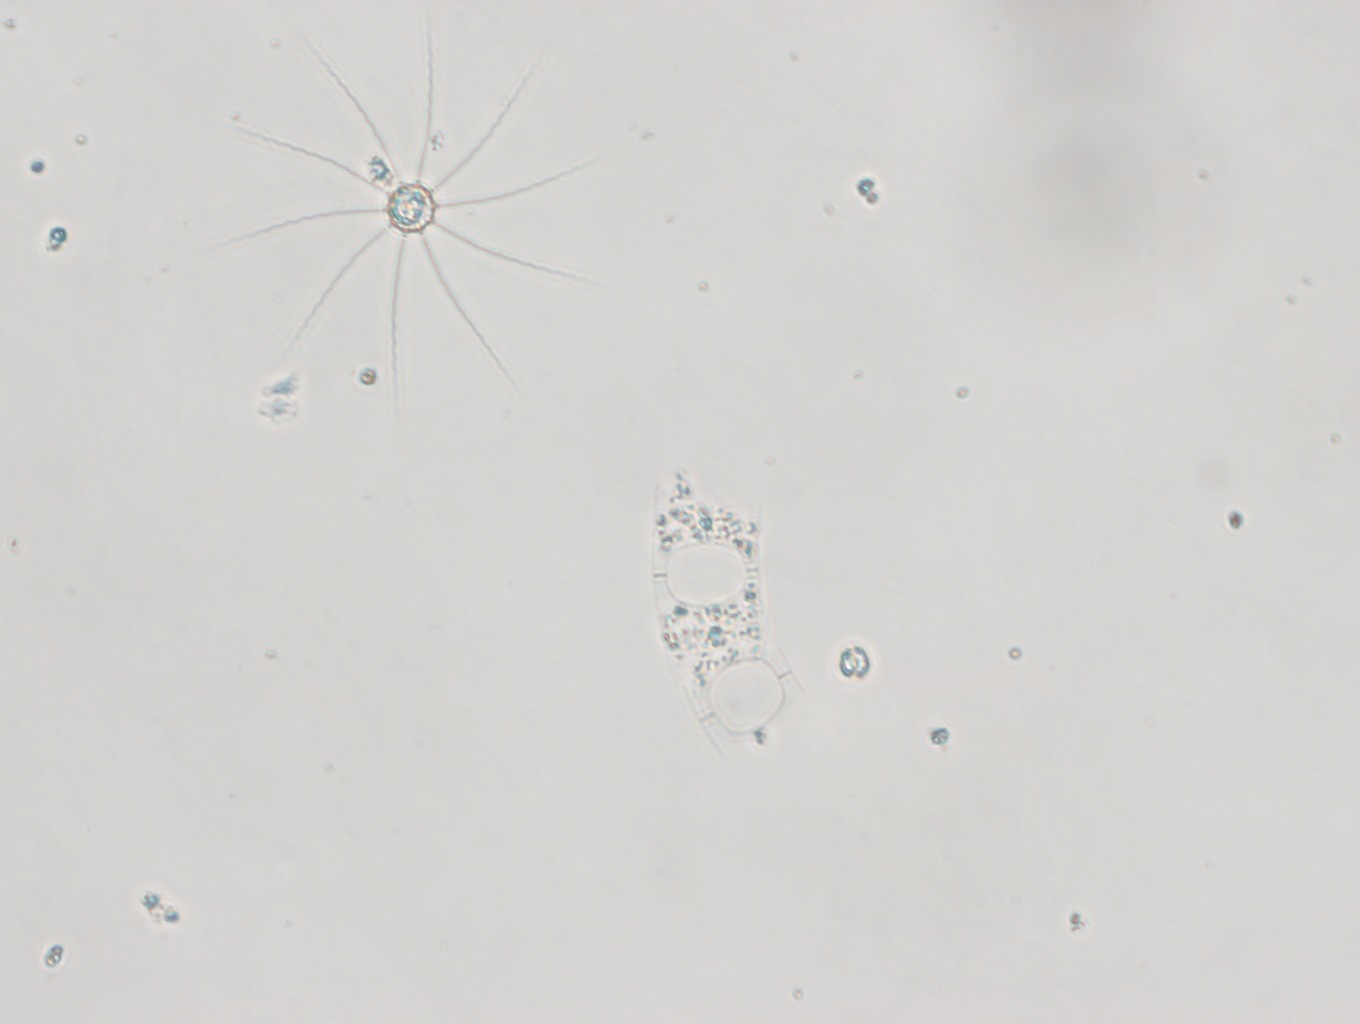bacteriastrum: (190, 9, 606, 416)
eucampia: (648, 459, 815, 755)
